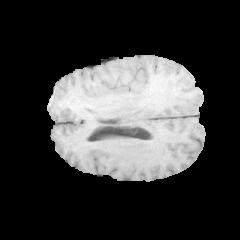glioma: (107, 62, 153, 106)
